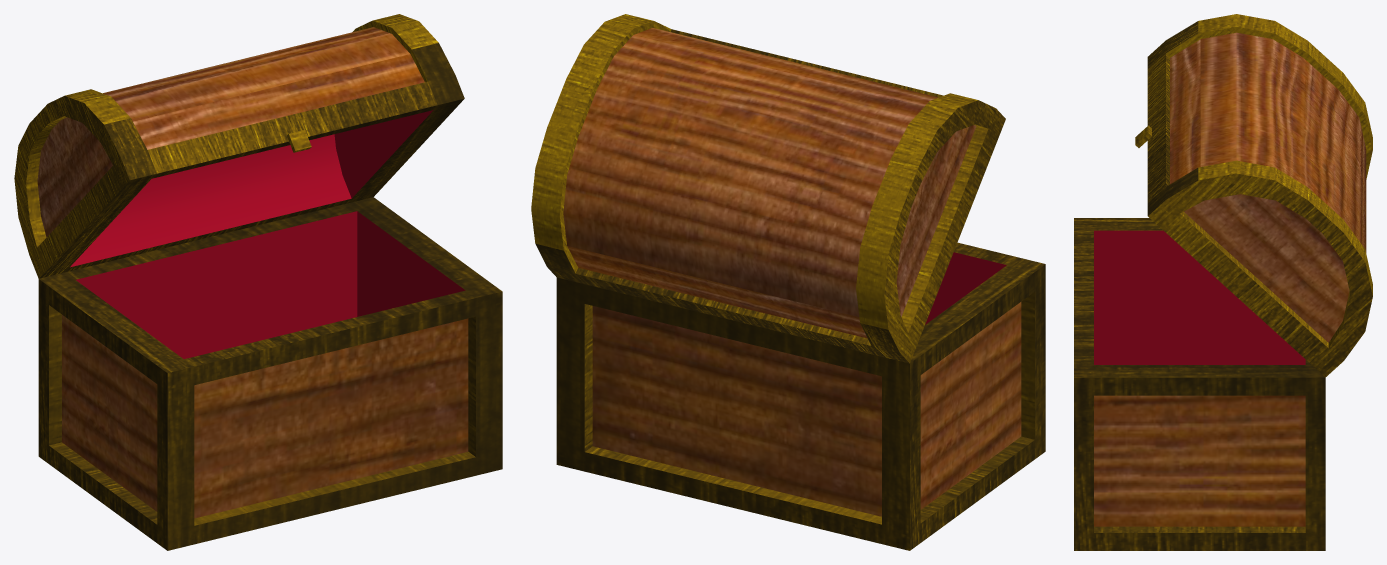
The model's file is TakaraOpened.fbx.
The picture shows the model from 3 angles, left to right: view 1: azimuth 30°, elevation 25°; view 2: azimuth 150°, elevation 25°; view 3: azimuth 270°, elevation 25°; orthographic projection. The views are drawn at different scales.
Visible parts, largest first — view 1: pCube2; view 2: pCube2; view 3: pCube2.
Part boxes in pixels (bbox=[...]): pCube2: bbox=[14, 14, 502, 550]; pCube2: bbox=[531, 14, 1045, 550]; pCube2: bbox=[1074, 14, 1372, 550].
Bounding box in the file's own units: 1.5 × 1.66 × 1.19.
